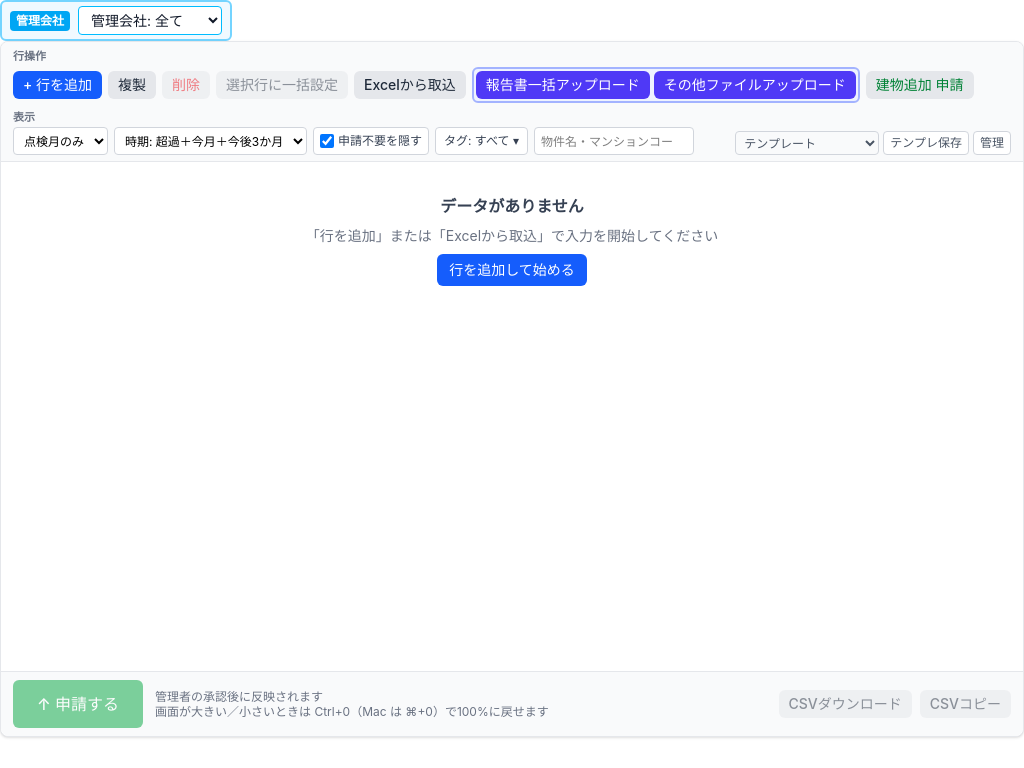
Test case: BulkEntryPage (v1 js/bulk.js init / adminVendorSelect) › 点検予定の行（保守会社のアカウント。B13・B14） › 点検日連絡が OFF の点検は申請不要（報告書のみ）として扱い、超過にしない（修正依頼1026）
The image size is (1024, 768).
Click the checkbox labelled "申請不要を隠す" at {"x": 327, "y": 141}, box [320,134,334,148]
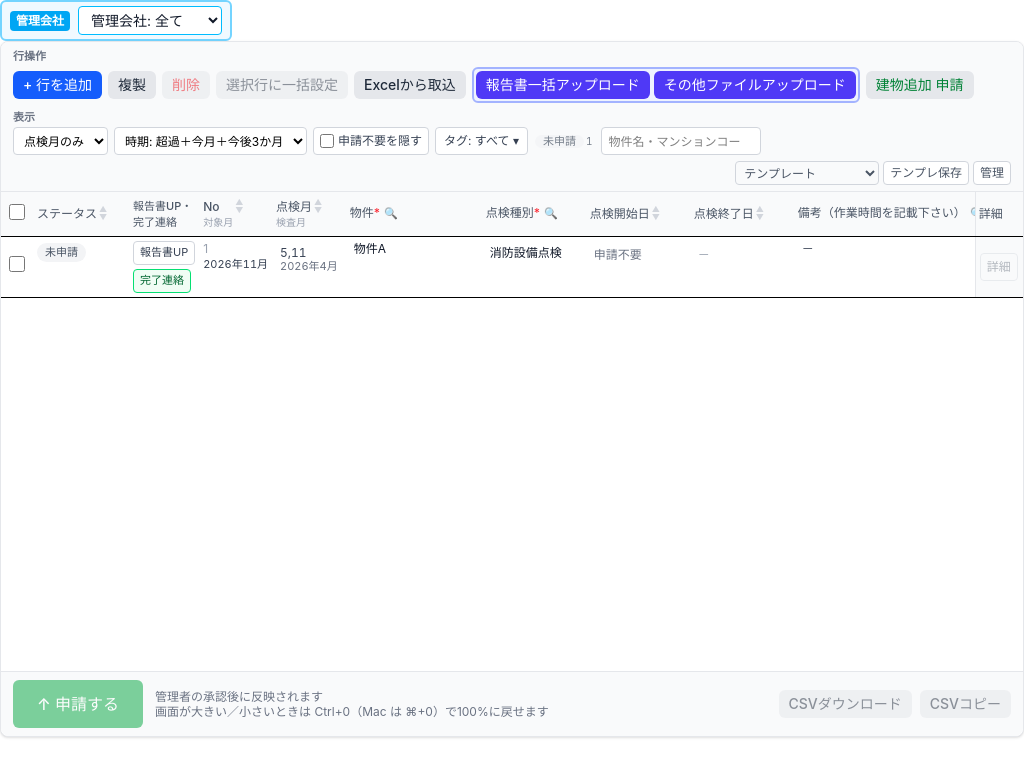
Select "時期: すべて" in the dropdown named "時期" at {"x": 210, "y": 141}, box [114,127,307,155]
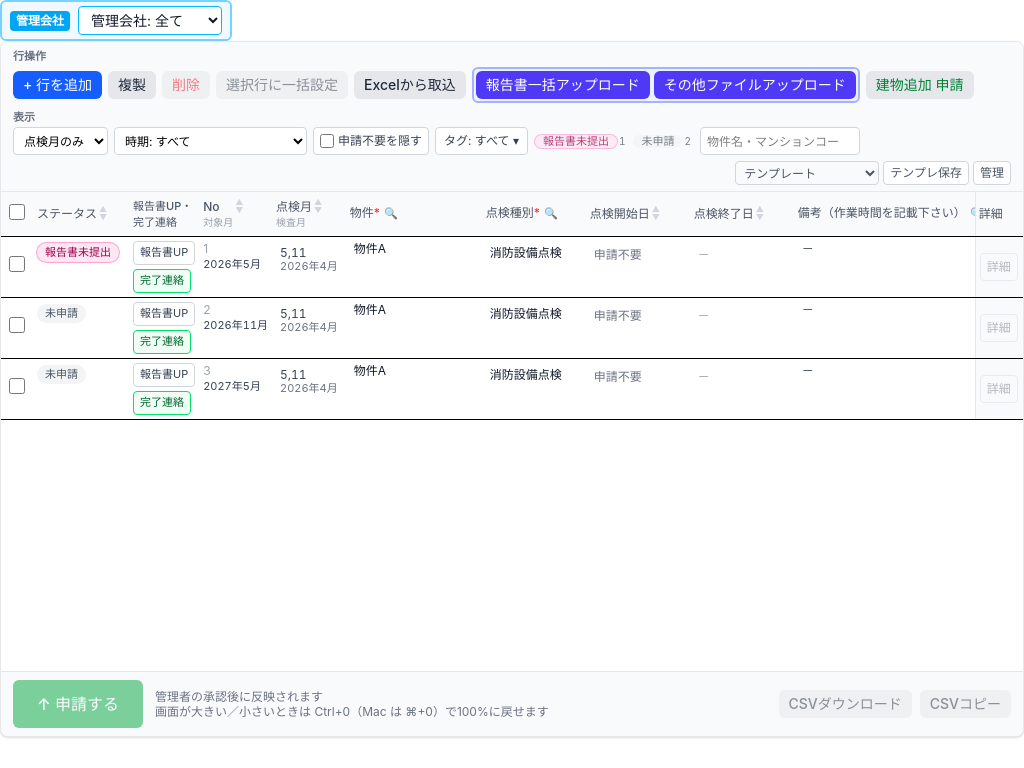
Result: the text "申請不要" in the row of "2026年11月" is shown at [594,308,642,322]
Result: the text "報告書未提出" in the row of "2026年5月" is shown at [45,244,111,258]
